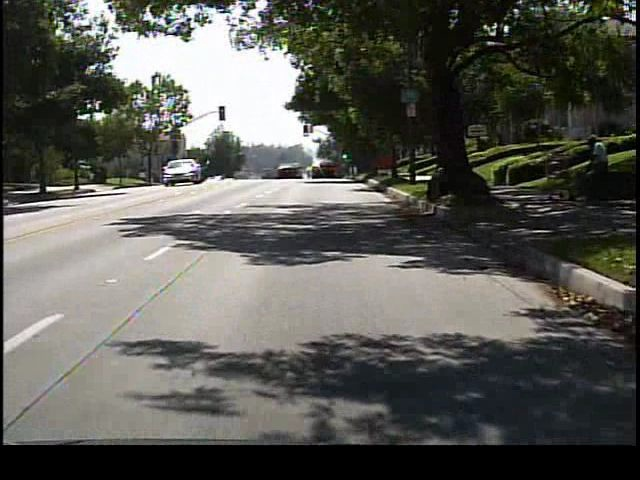person: (579, 131, 614, 211)
